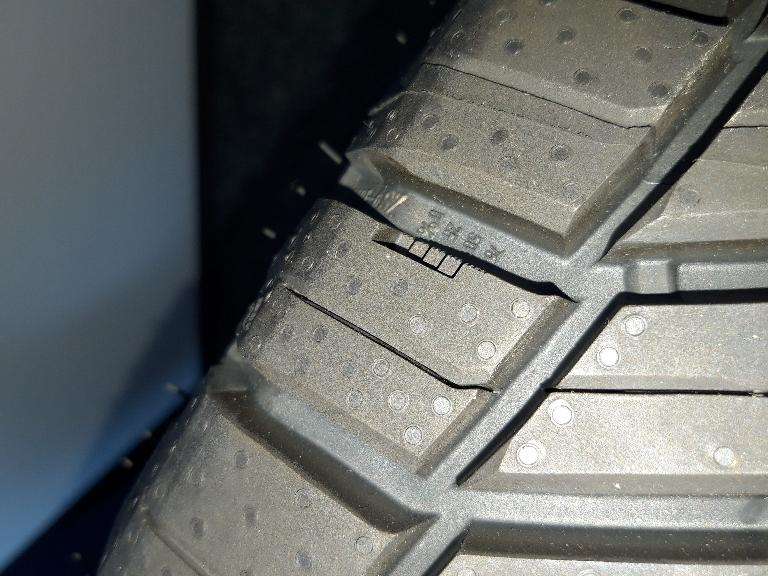temoin:100: (367, 219, 490, 289)
